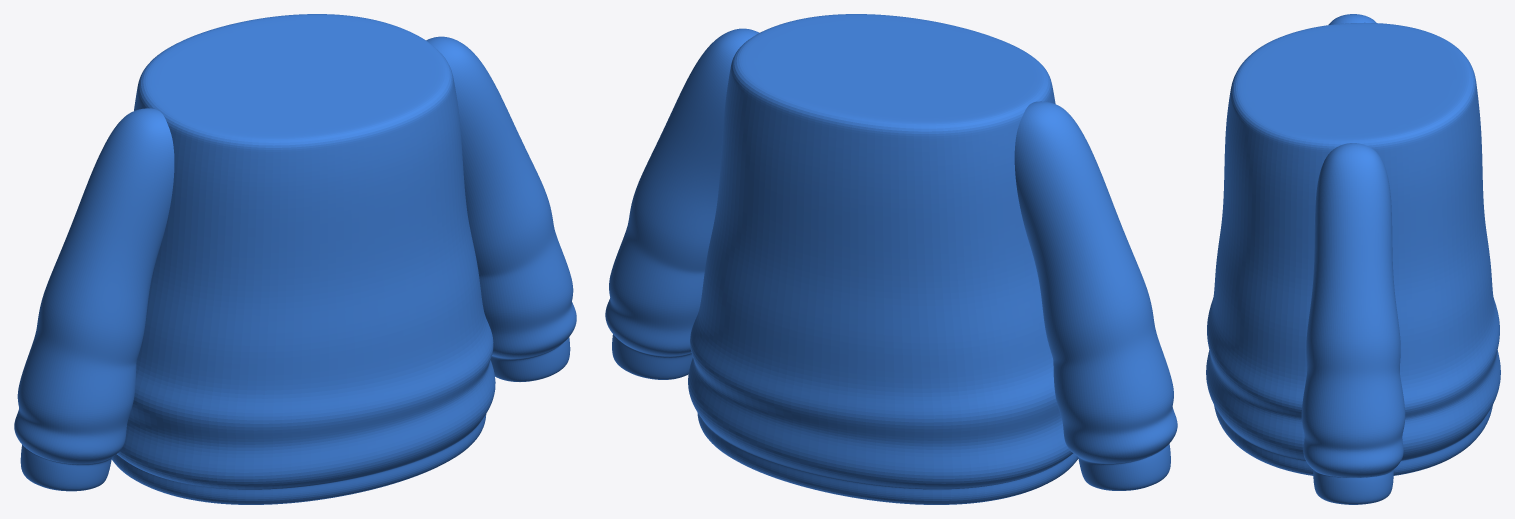
File: CAMISETA_1_H.glb
3 views of the same model, side by side, from view 1: azimuth 30°, elevation 25°; view 2: azimuth 150°, elevation 25°; view 3: azimuth 270°, elevation 25° (orthographic). The views are drawn at different scales.
Visible parts, largest first — view 1: Cube.088, Cube.090; view 2: Cube.088, Cube.090; view 3: Cube.088, Cube.090.
Part boxes in pixels (x1,y1,x2,y2): Cube.088: (111, 14, 495, 504); Cube.090: (14, 36, 576, 491); Cube.088: (688, 14, 1078, 504); Cube.090: (605, 28, 1177, 490); Cube.088: (1206, 22, 1500, 475); Cube.090: (1301, 14, 1405, 504).
Bounding box in the file's own units: 3.38 × 2.17 × 1.75.
